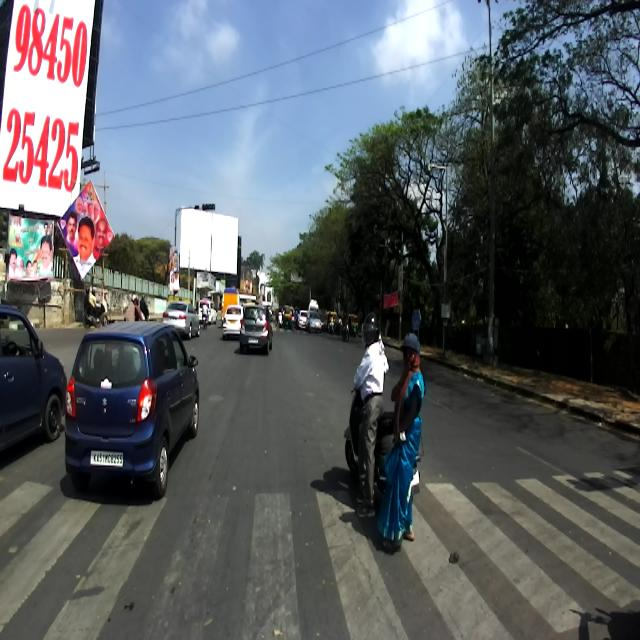car ahead at: (65, 319, 201, 503)
person ahead at: (389, 333, 426, 555), (345, 313, 384, 523)
